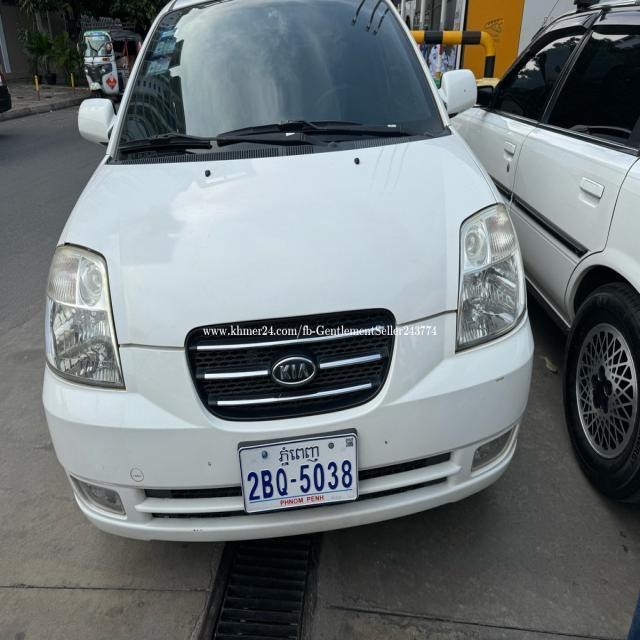Phnom_Penh: (275, 442, 322, 467)
